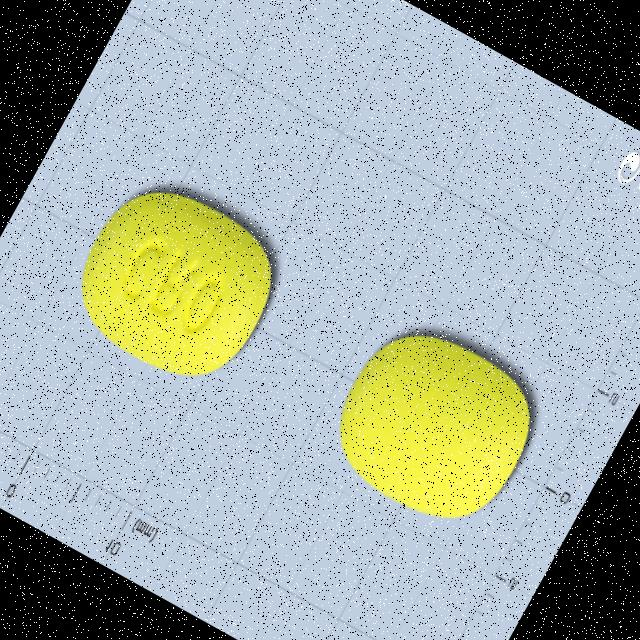Clarosin - 250mg: (310, 302, 560, 548), (54, 164, 298, 406)
